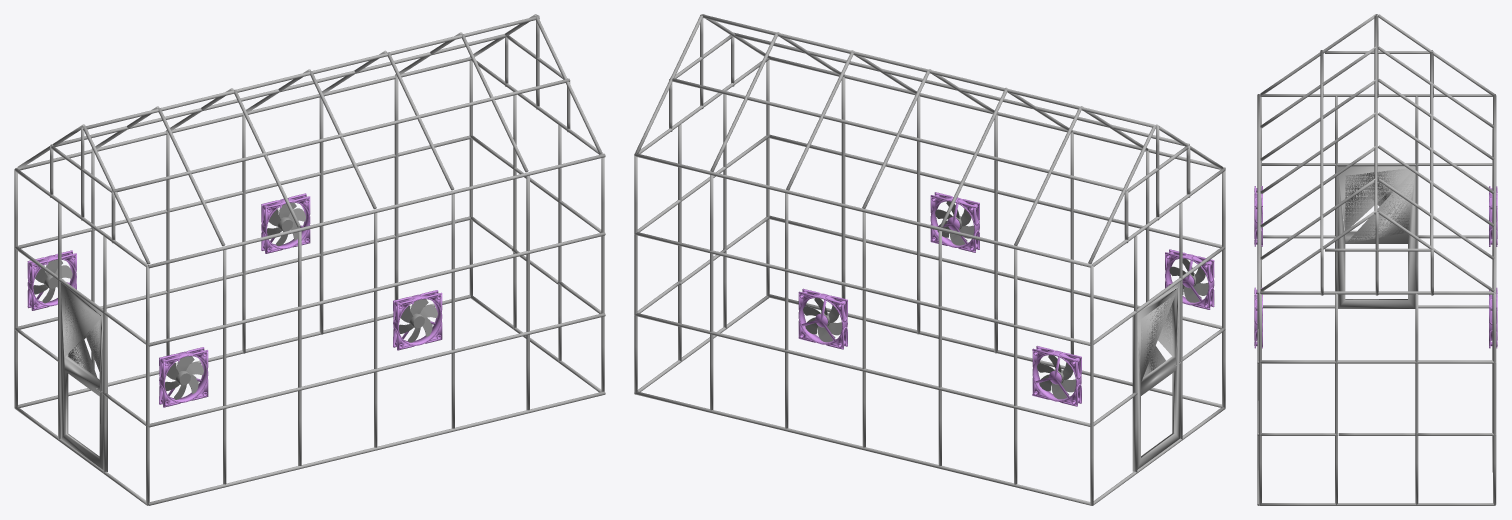
3 renders of one model, left to right at view 1: azimuth 30°, elevation 25°; view 2: azimuth 150°, elevation 25°; view 3: azimuth 270°, elevation 25°, orthographic. The views are drawn at different scales.
Visible parts, largest first — view 1: Cylinder01, Line01, fan_body001, fan_body, fan_body002, fan_body003, fan_blades001, fan_blades, fan_blades002, fan_blades003; view 2: Cylinder01, Line01, fan_body003, fan_body002, fan_body001, fan_body, fan_blades002, fan_blades003, fan_blades, fan_blades001; view 3: Cylinder01, Line01, fan_body, fan_body002, fan_body003, fan_body001.
Part boxes in pixels (<box>): Cylinder01: <box>14,14,605,505</box>; Line01: <box>60,282,107,471</box>; fan_body001: <box>393,290,442,350</box>; fan_body: <box>159,347,208,407</box>; fan_body002: <box>261,193,310,253</box>; fan_body003: <box>27,250,76,310</box>; fan_blades001: <box>399,299,437,342</box>; fan_blades: <box>165,356,203,399</box>; fan_blades002: <box>267,202,305,246</box>; fan_blades003: <box>33,259,72,303</box>; Cylinder01: <box>634,14,1225,505</box>; Line01: <box>1132,282,1180,471</box>; fan_body003: <box>1032,346,1081,406</box>; fan_body002: <box>798,288,847,349</box>; fan_body001: <box>930,192,979,252</box>; fan_body: <box>1165,249,1214,309</box>; fan_blades002: <box>803,298,841,342</box>; fan_blades003: <box>1037,355,1075,399</box>; fan_blades: <box>1169,258,1208,302</box>; fan_blades001: <box>935,201,974,245</box>; Cylinder01: <box>1257,14,1496,505</box>; Line01: <box>1337,166,1415,308</box>; fan_body: <box>1254,186,1262,246</box>; fan_body002: <box>1489,287,1497,348</box>; fan_body003: <box>1489,186,1497,246</box>; fan_body001: <box>1254,287,1262,348</box>.
Bounding box in the file's own units: 60.53 × 41.67 × 31.16.
